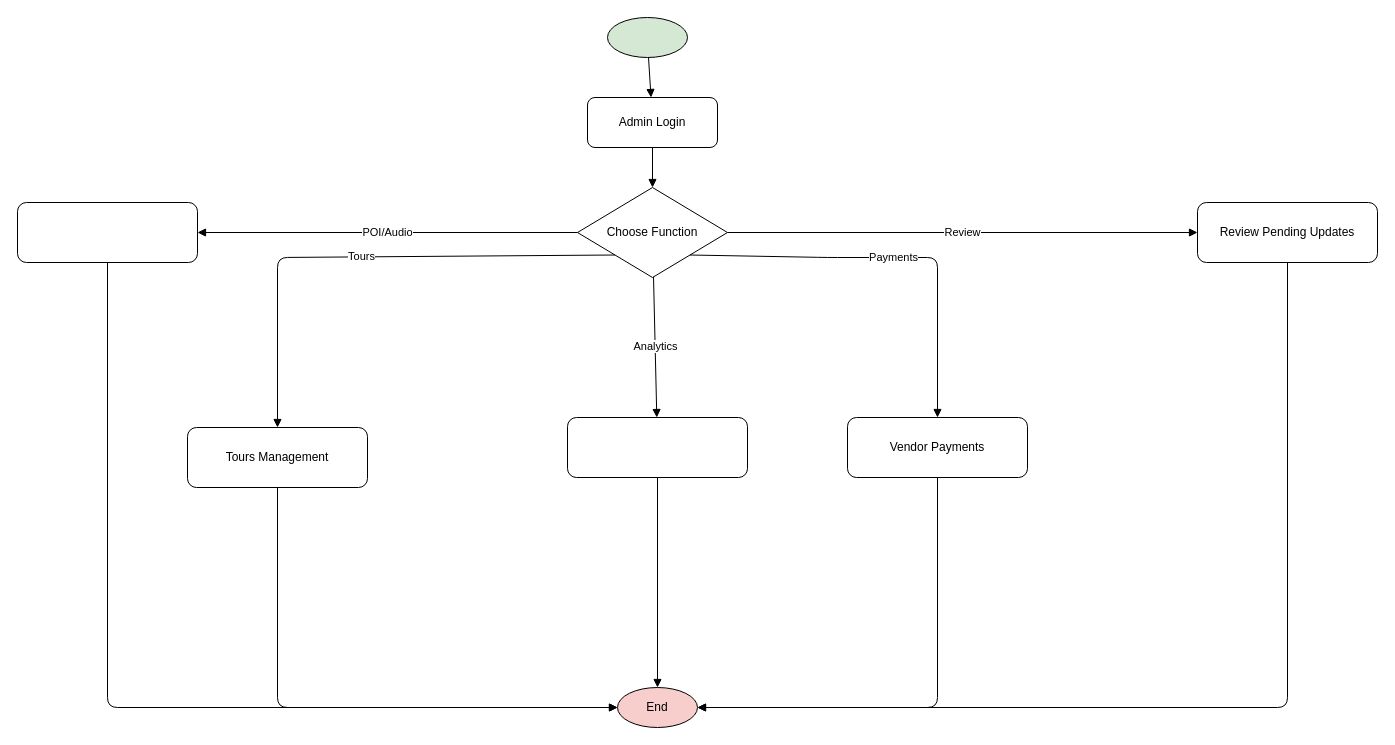
Some shapes in this 1395 by 745 pixel diagram are drawn without their labels. The shapes that lost their labels are listed below. From the top down, each one's centre as x and y in pixels, then its label:
point (647, 37): Start
point (107, 232): POI / Audio Management
point (657, 447): Analytics Dashboard
